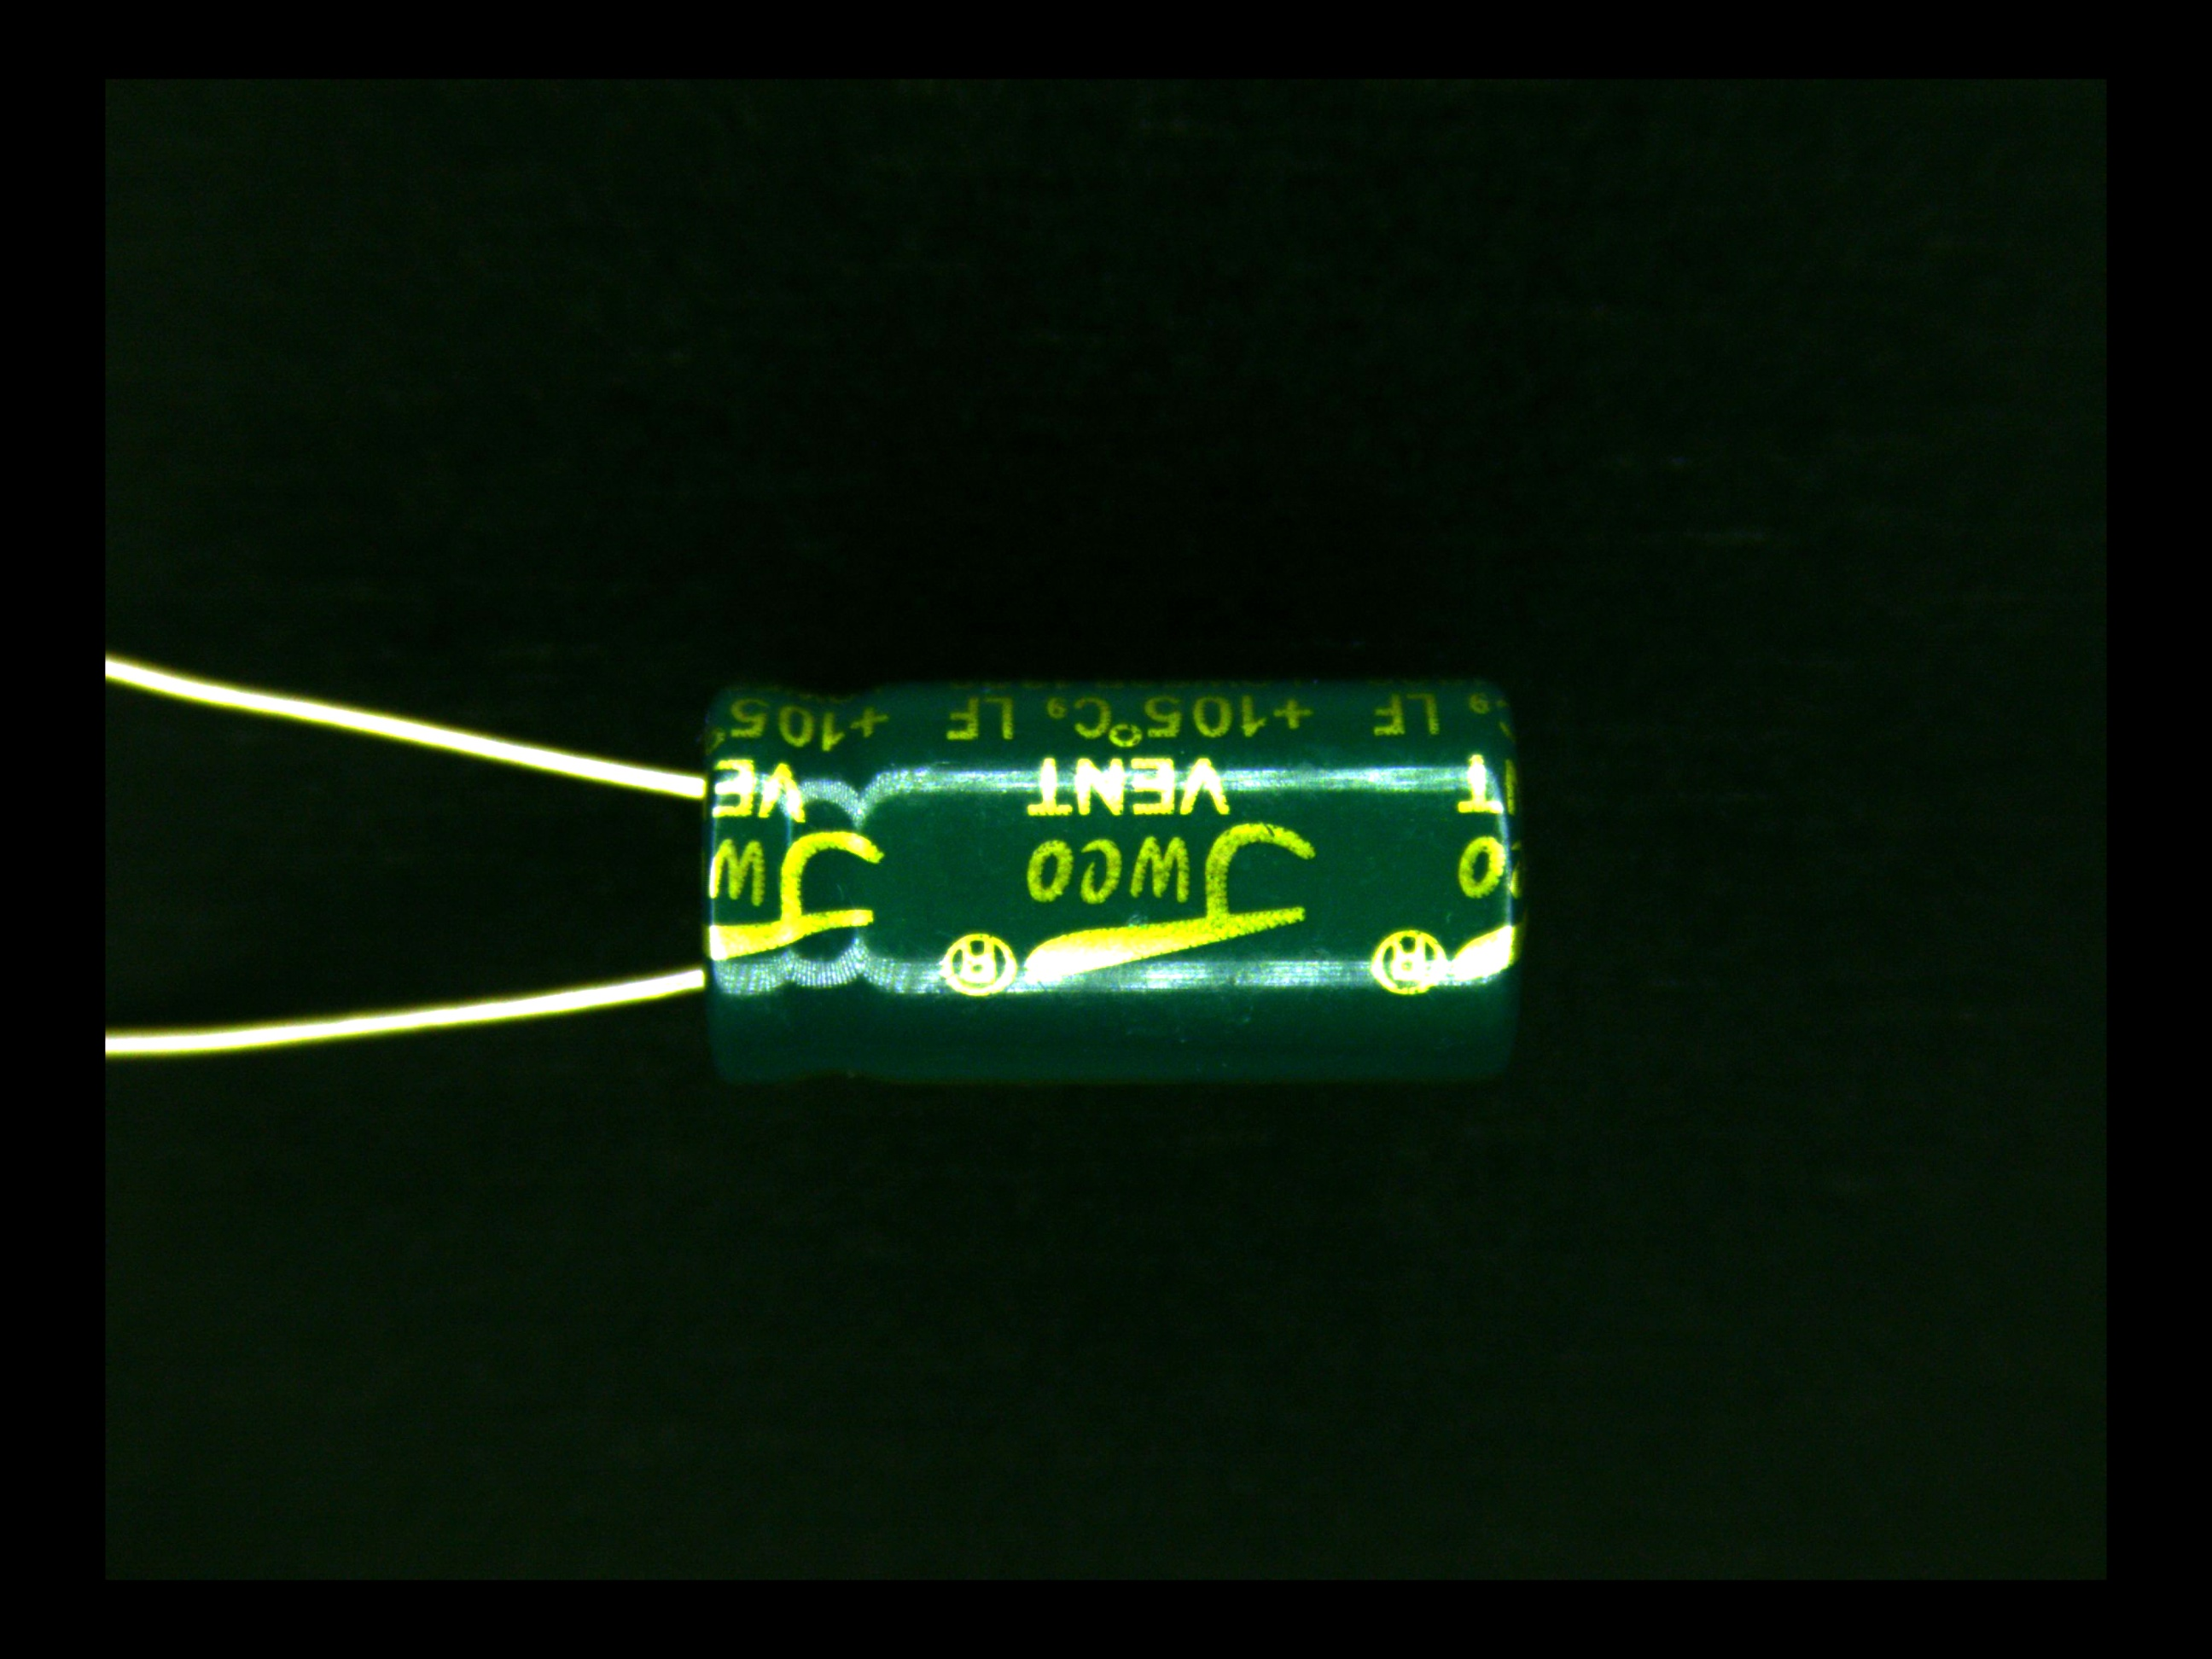c1: (577, 671, 1527, 1084)
